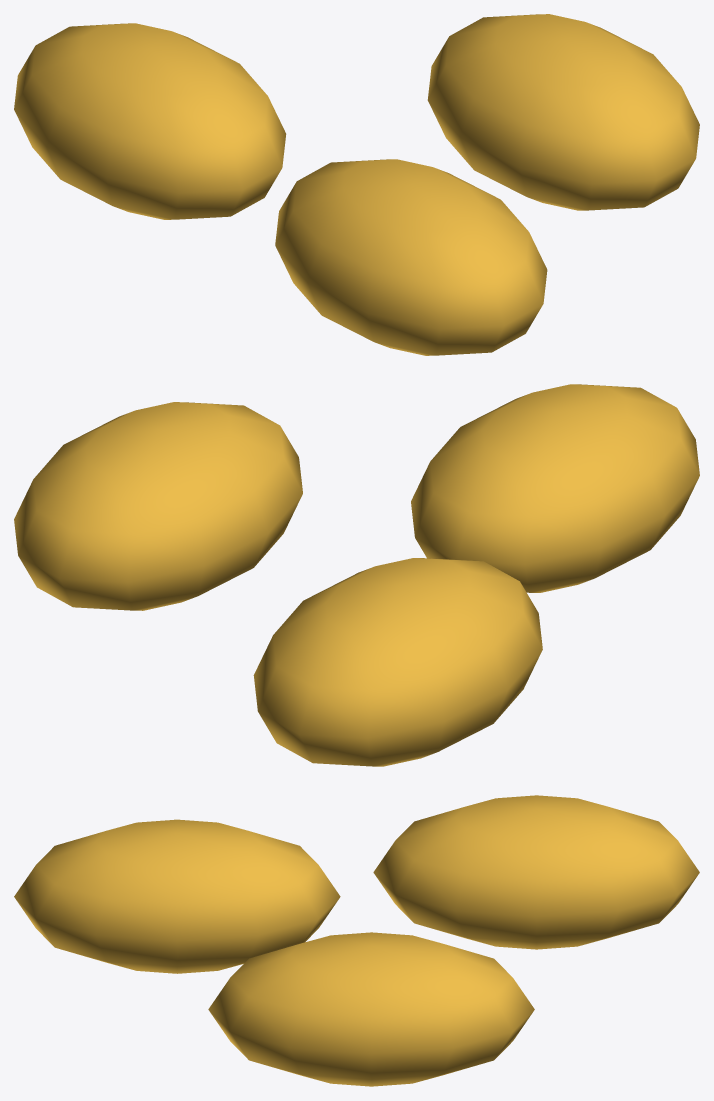
File: crop_6_stage_0.fbx
3 views of the same model, one above another, from view 1: azimuth 30°, elevation 25°; view 2: azimuth 150°, elevation 25°; view 3: azimuth 270°, elevation 25° (orthographic). The views are drawn at different scales.
Visible parts, largest first — view 1: crop_6_stage_0; view 2: crop_6_stage_0; view 3: crop_6_stage_0.
Part boxes in pixels (x1=…): crop_6_stage_0: x1=14, y1=14, x2=699, y2=355; crop_6_stage_0: x1=14, y1=384, x2=699, y2=766; crop_6_stage_0: x1=14, y1=795, x2=699, y2=1086.
Bounding box in the file's own units: 0.1336 × 0.035 × 0.1715.
Materials: 1 (1 with a texture image).
